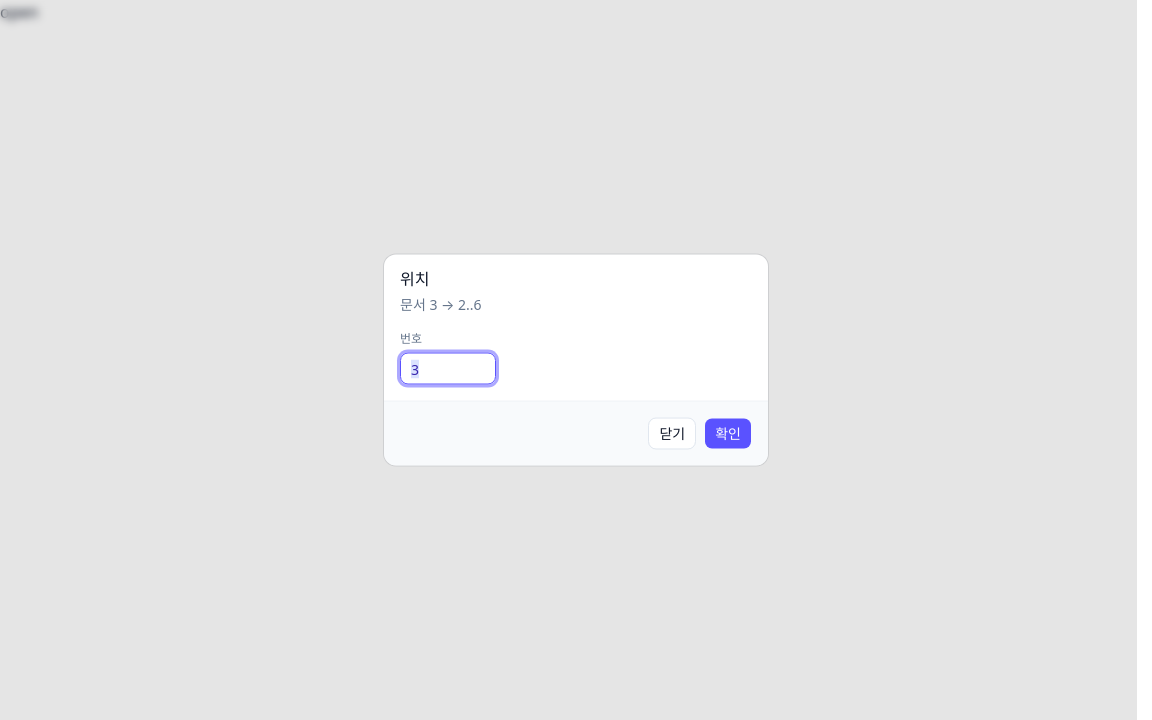
Test case: DocumentPositionDialog(Core) 검사와 onMove › 구간 밖·숫자 아님()은 labels.invalid 문구를 보이고 닫지 않는다
Clear the field labelled "번호". click: (448, 368)
box: [400,352,496,384]
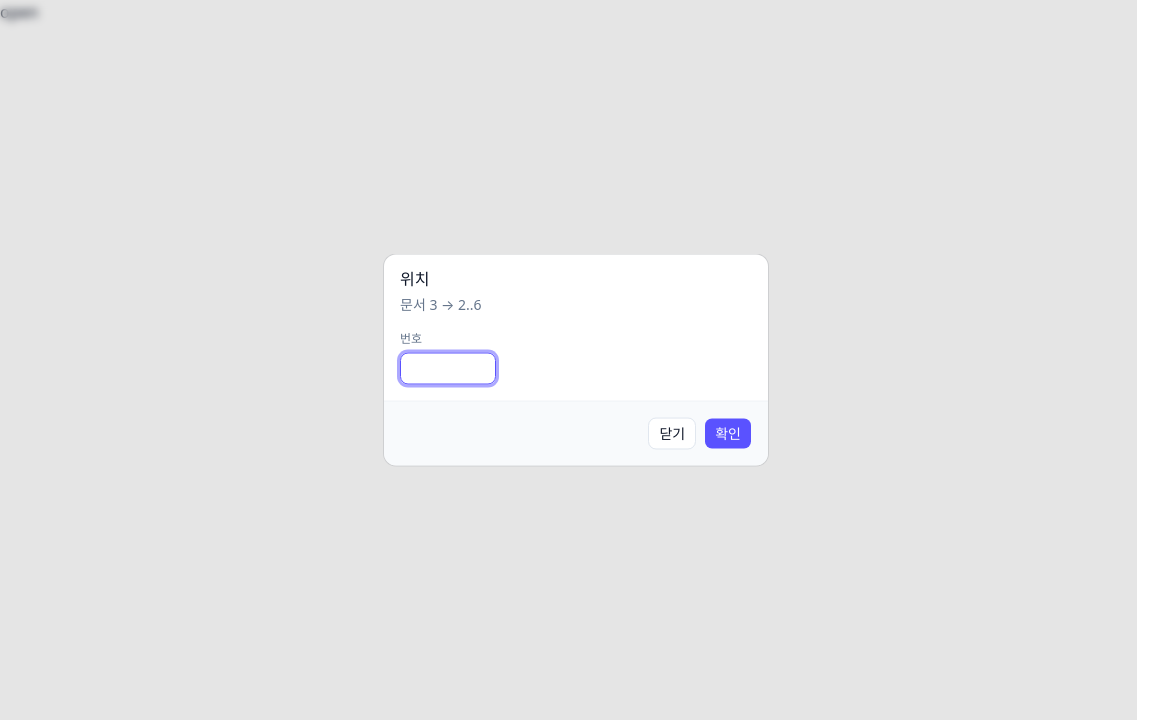
Click the button "확인". click: (728, 434)
box: [704,418,752,450]
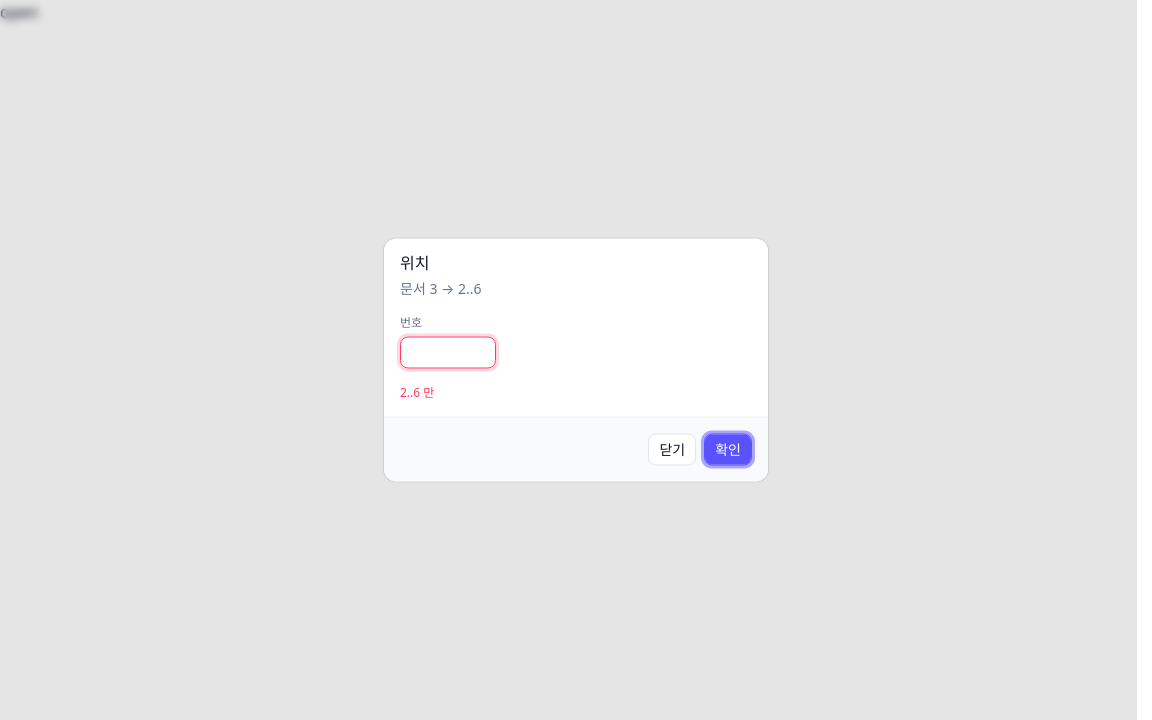
Result: the message reads "2..6 만" at [400,384,434,400]
